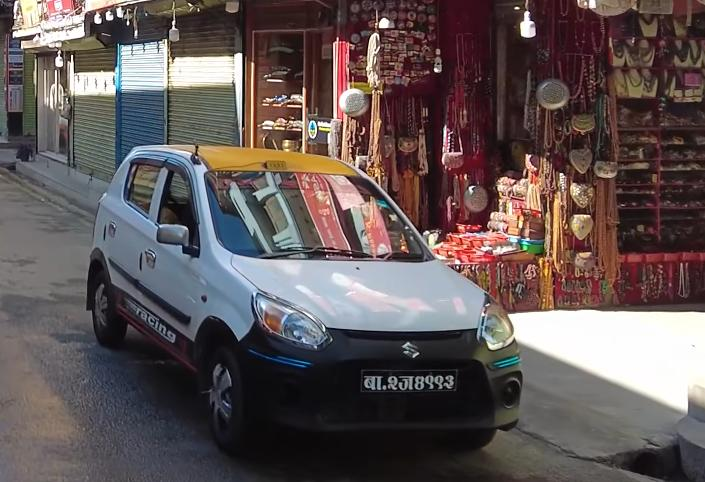taxi: (91, 138, 525, 464)
